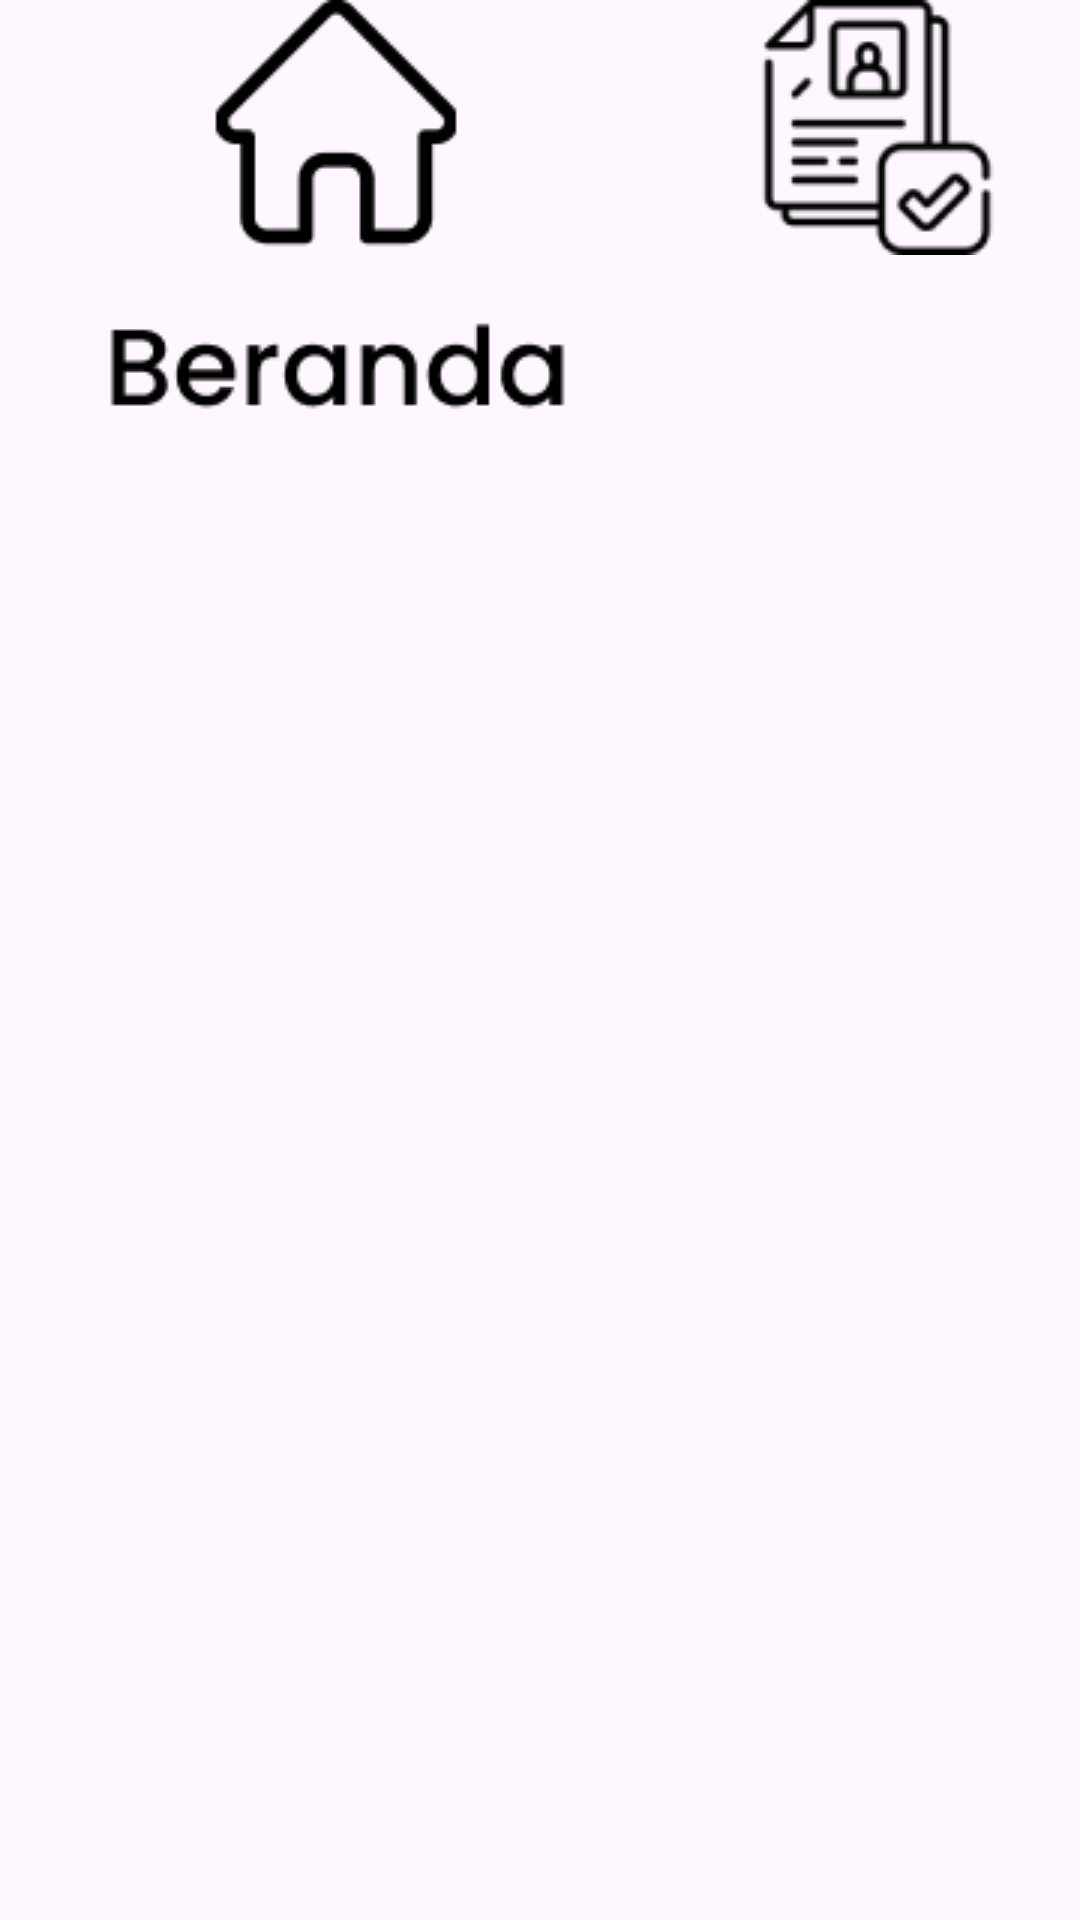

Icons on this 1080px x 1920px Android screen, each with the point to tap as (x=x, y=y):
daftar: (x=877, y=127)
